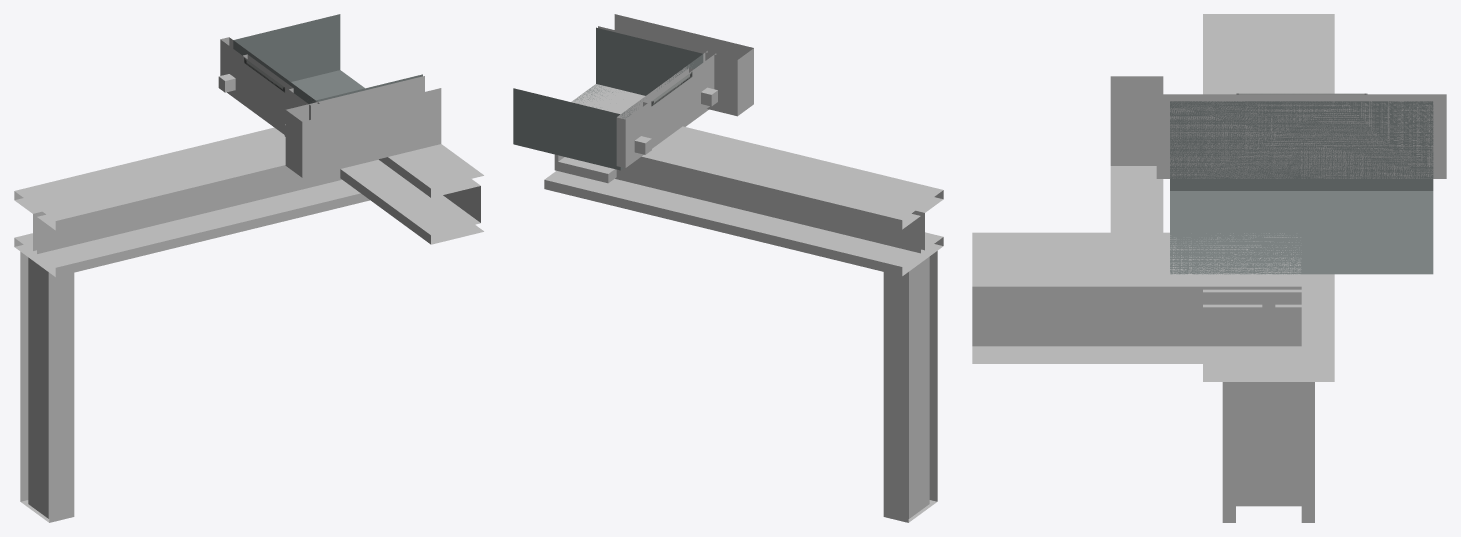
The model's file is cell_4.obj.
3 views of the same model, side by side, from view 1: azimuth 30°, elevation 25°; view 2: azimuth 150°, elevation 25°; view 3: azimuth 270°, elevation 25° (orthographic). The views are drawn at different scales.
Size of the model in its own units: 1 by 1 by 0.72.
